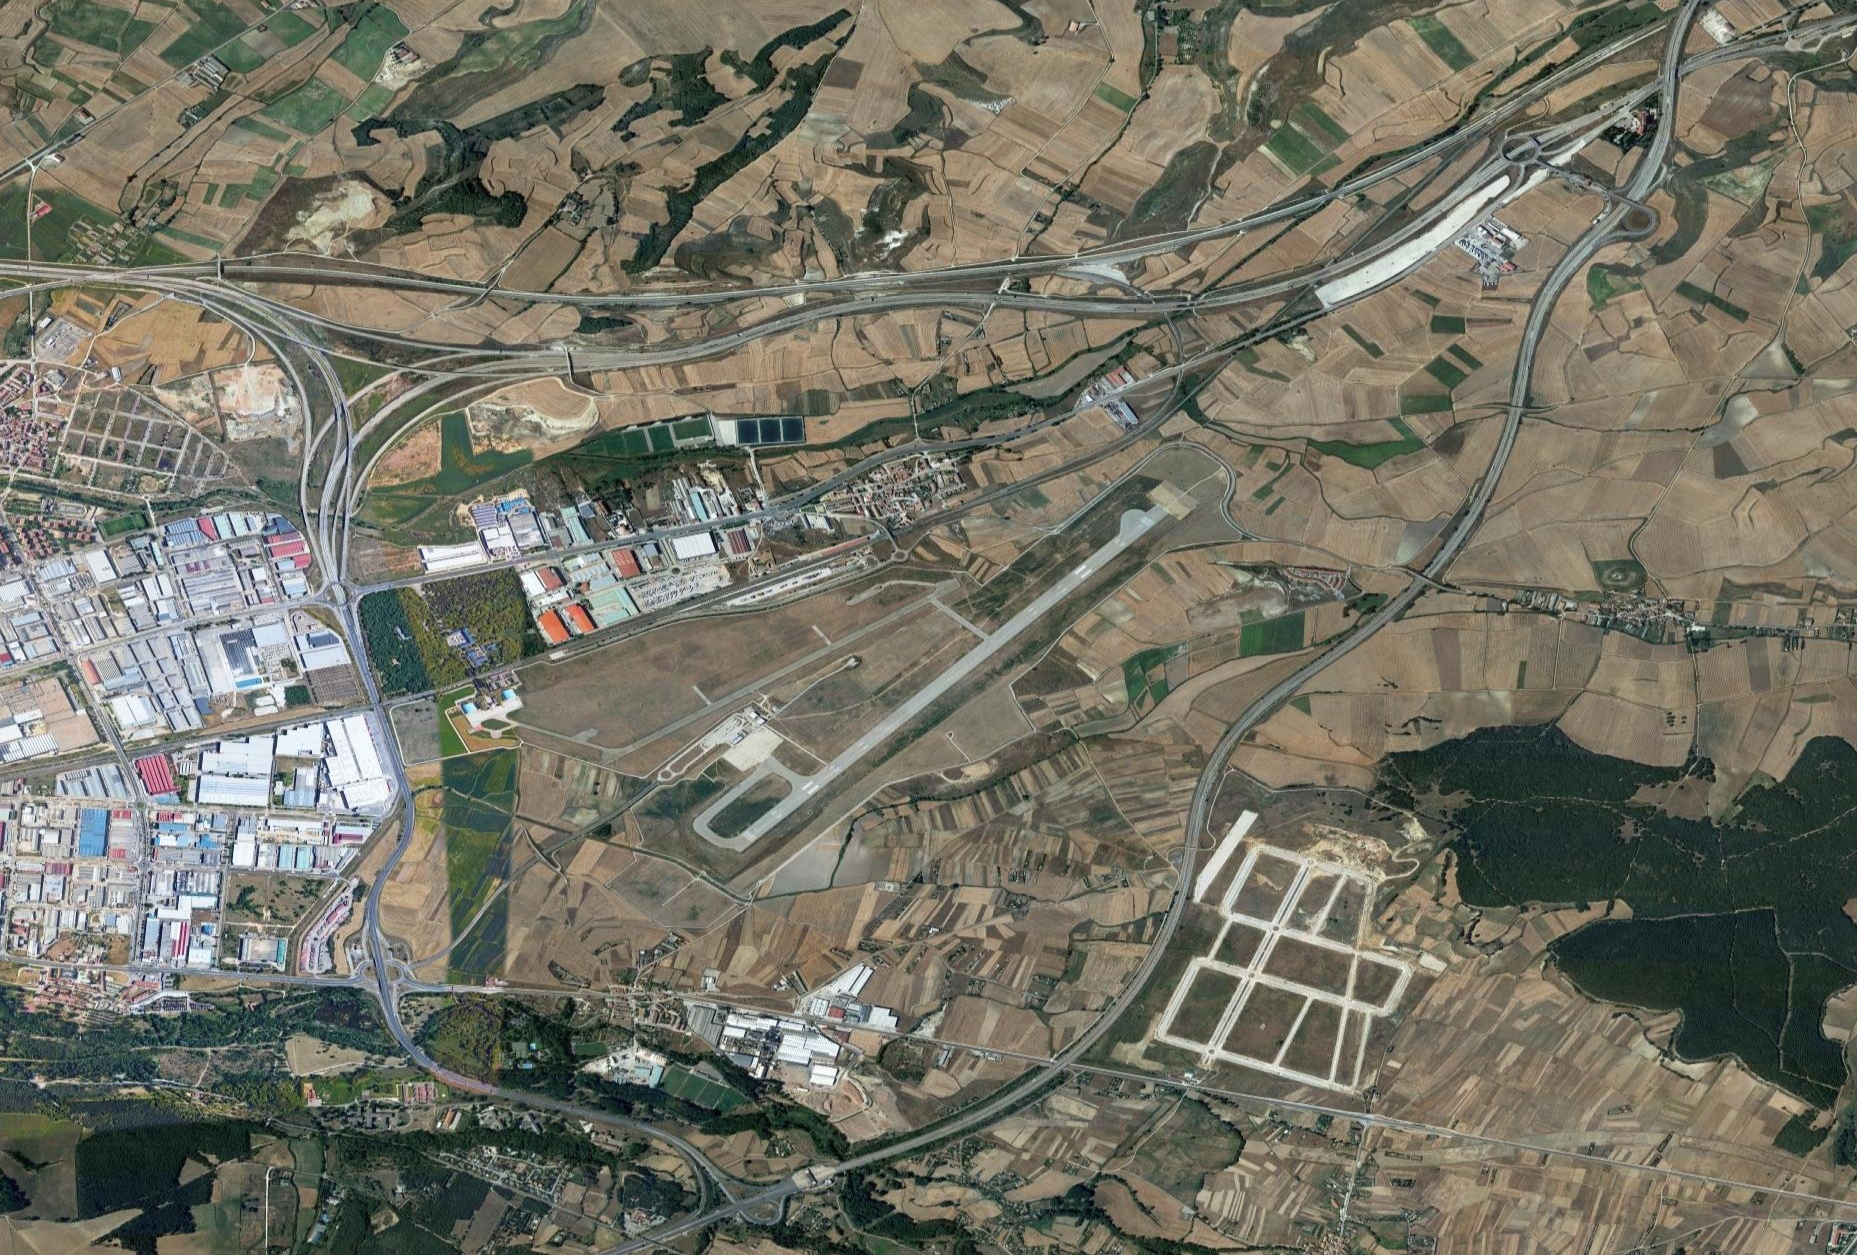airport: (653, 476, 1203, 859)
